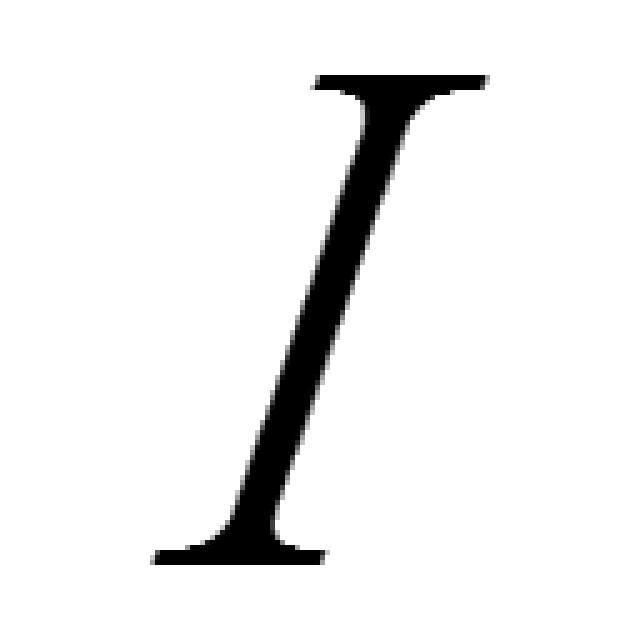I: (155, 75, 490, 570)
